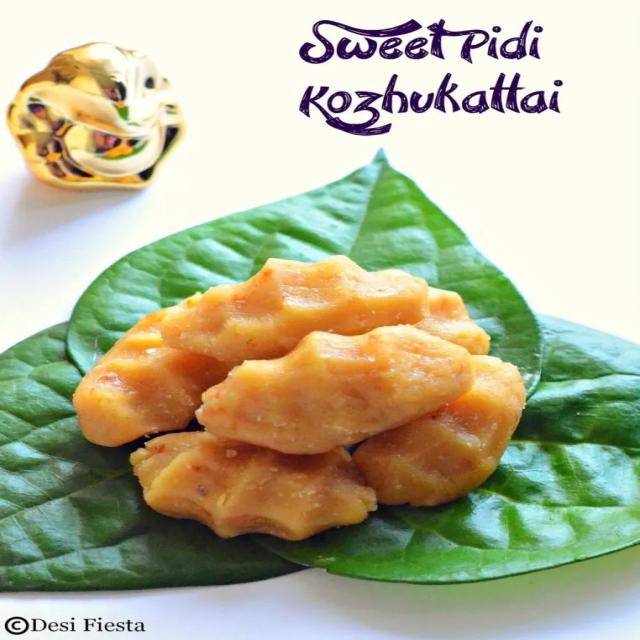pidi kolukattai: (52, 214, 526, 584)
